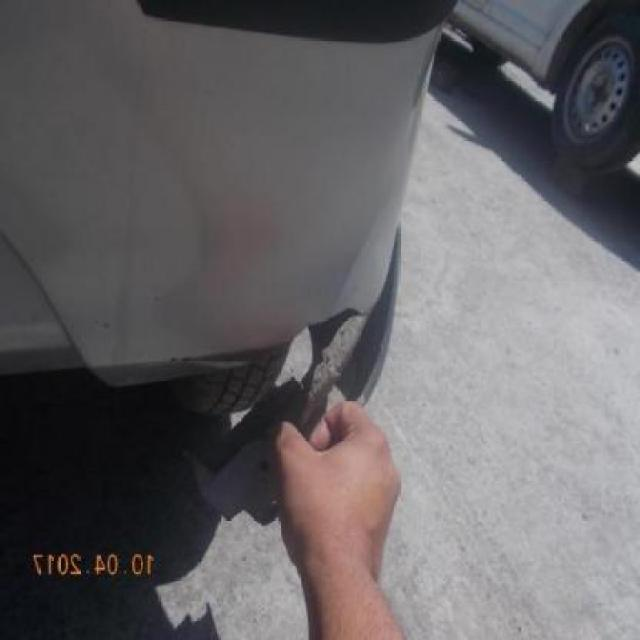damage: (175, 308, 361, 531)
